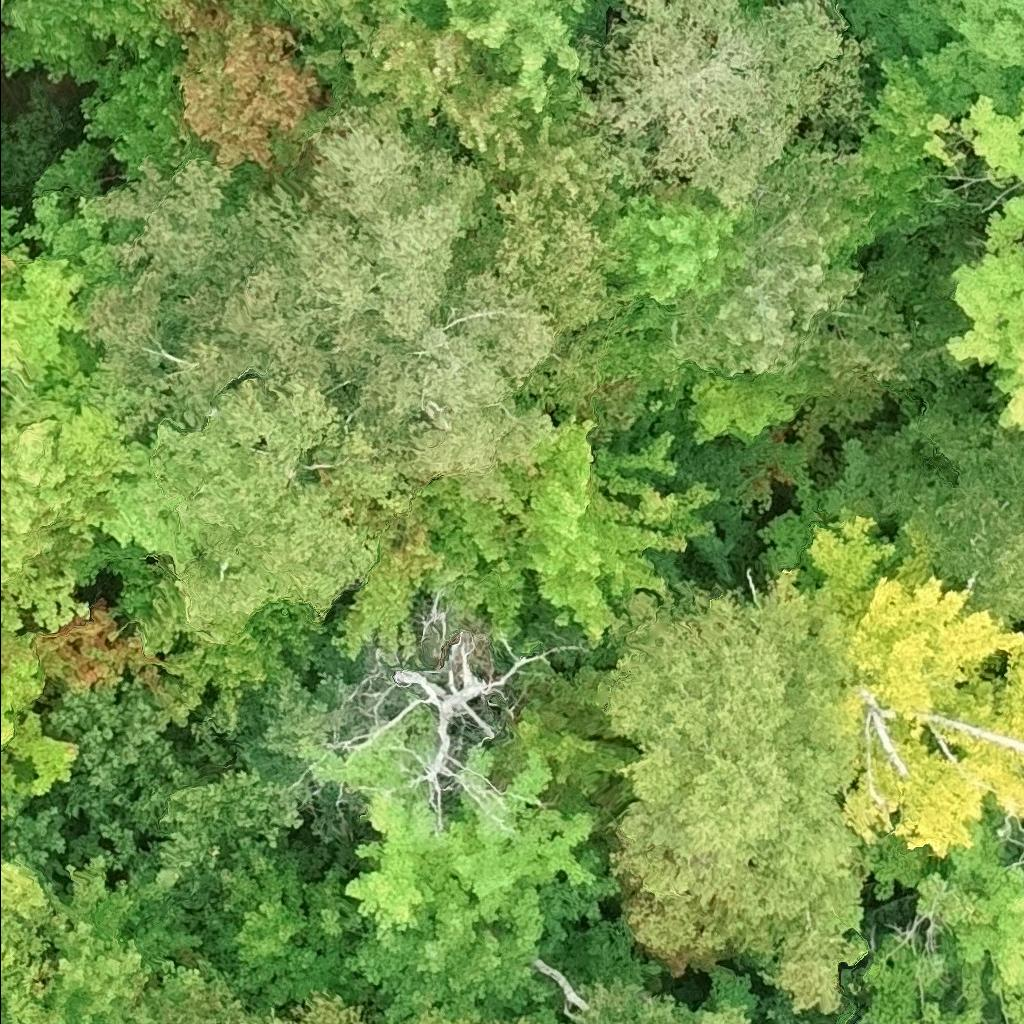crown: (165, 99, 633, 496), (594, 567, 873, 1018), (802, 504, 1023, 864), (150, 368, 416, 643), (299, 6, 625, 222), (571, 0, 876, 209), (309, 725, 605, 939), (324, 593, 593, 826), (340, 837, 665, 1023), (663, 127, 872, 385), (505, 412, 724, 650), (320, 477, 537, 668), (858, 798, 1023, 1023), (166, 0, 336, 214), (80, 155, 236, 388), (838, 0, 1023, 191), (0, 384, 135, 634), (39, 673, 202, 869), (180, 835, 358, 1008), (35, 852, 215, 1023), (890, 402, 1023, 627), (0, 250, 135, 468), (482, 664, 639, 850), (386, 0, 617, 118), (13, 138, 138, 315), (594, 176, 758, 306), (854, 47, 966, 237), (145, 767, 305, 889), (945, 190, 1023, 434), (77, 44, 203, 185), (21, 597, 163, 709), (0, 606, 81, 797), (0, 0, 176, 86), (172, 976, 379, 1023), (571, 974, 749, 1023), (232, 0, 386, 52), (3, 787, 72, 867), (398, 1000, 546, 1023), (0, 199, 32, 284), (133, 0, 214, 24), (0, 1010, 3, 1023)
